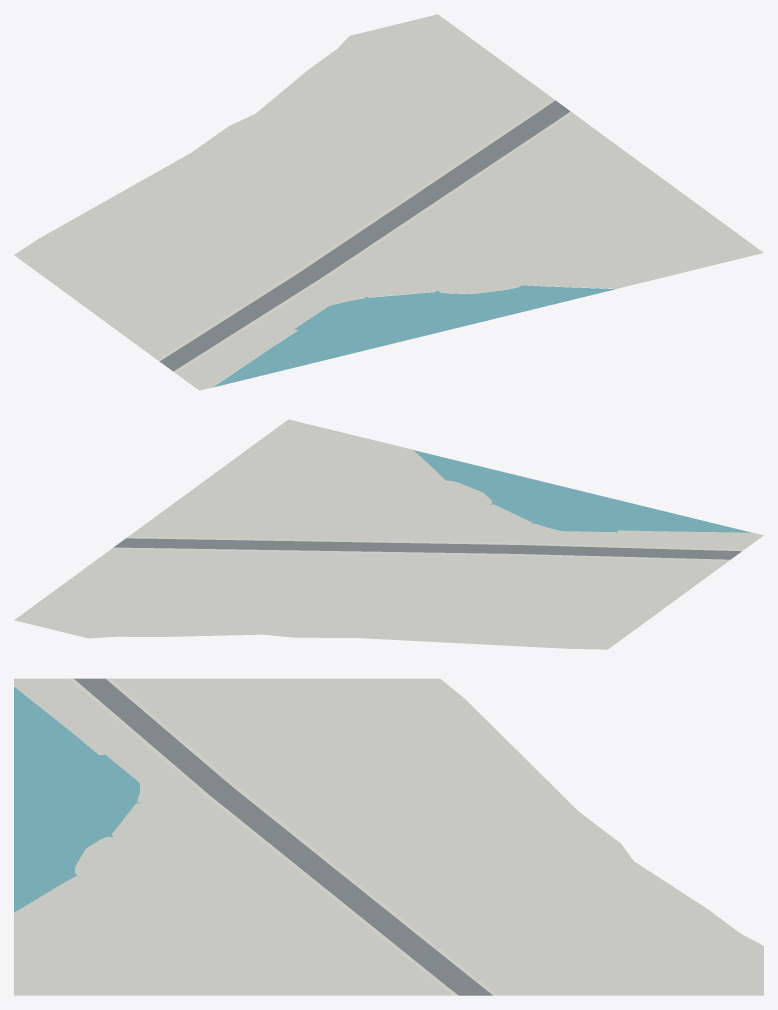
3 views of the same model, one above another, from view 1: azimuth 30°, elevation 25°; view 2: azimuth 150°, elevation 25°; view 3: azimuth 270°, elevation 25° (orthographic). The views are drawn at different scales.
Parts seen in each view (by area): view 1: city; view 2: city; view 3: city.
Part boxes in pixels (bbox=[...]): city: bbox=[14, 14, 763, 390]; city: bbox=[14, 419, 763, 649]; city: bbox=[14, 678, 763, 995].
Bounding box in the file's own units: 500 × 0.4 × 500.
